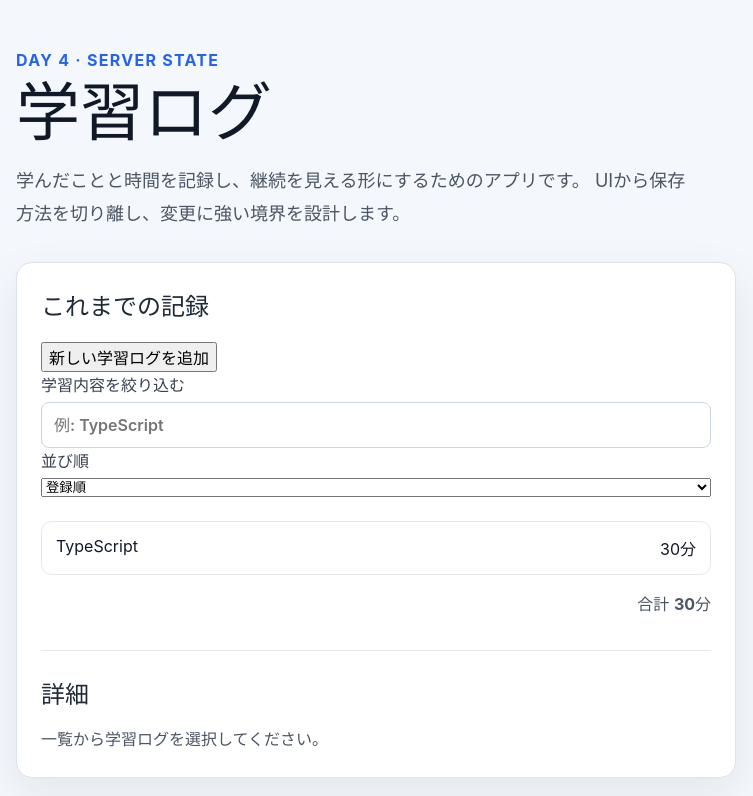
Test: StudyLogPage › 選択した学習ログを削除して空状態へ戻る
Click the button "TypeScript 30分" at point(97, 546), box x1=41 y1=521 x2=711 y2=575
(page scrolled)
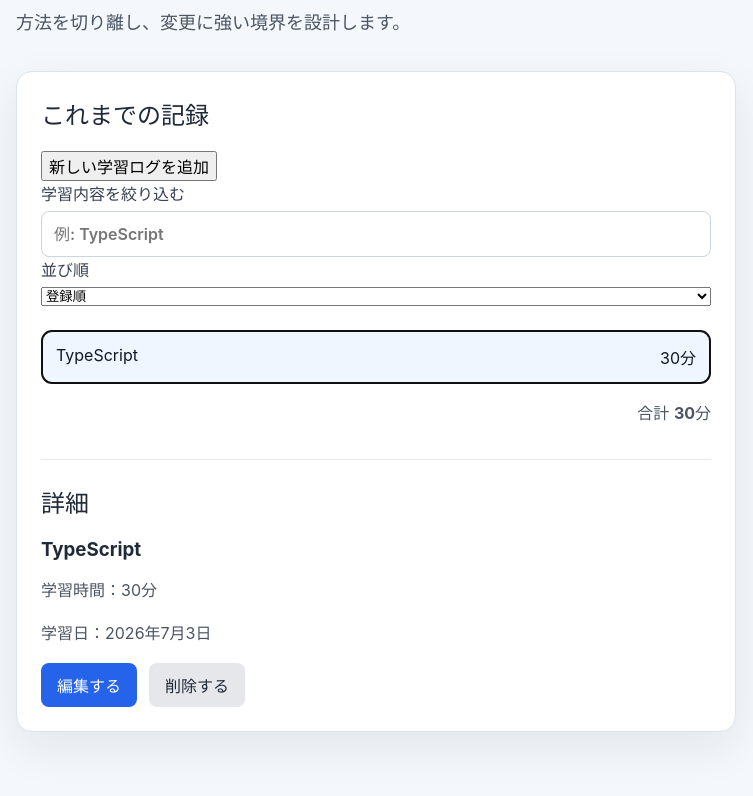
Click the button "削除する" at point(197, 685), box x1=149 y1=663 x2=245 y2=707
(page scrolled)
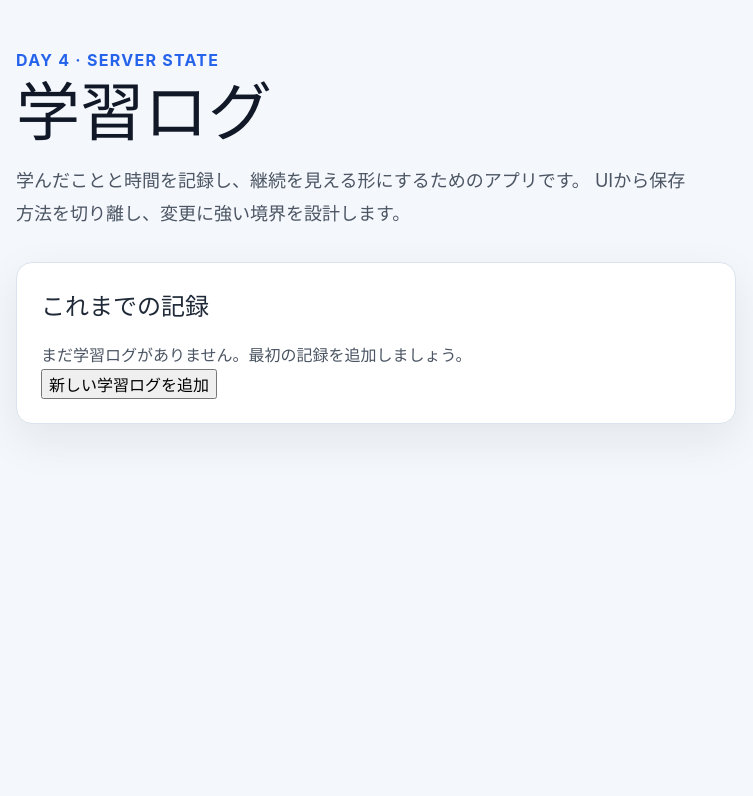
Check: the text "まだ学習ログがありません。最初の記録を追加しましょう。" is shown, box x1=41 y1=345 x2=472 y2=365
